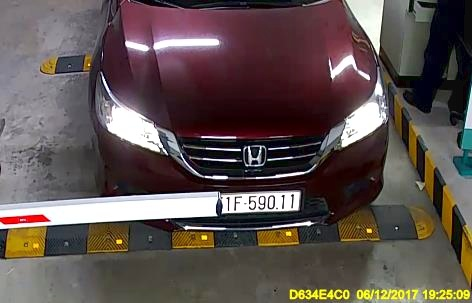plate: (213, 185, 301, 215)
